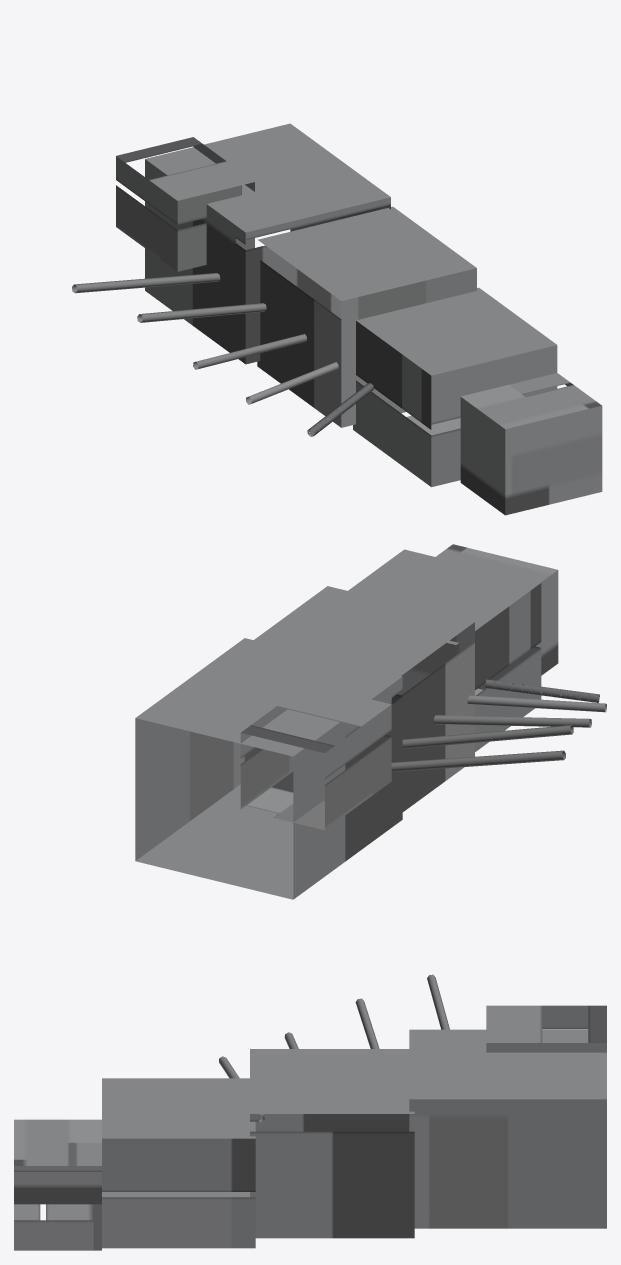
3 views of the same model, one above another, from view 1: azimuth 30°, elevation 25°; view 2: azimuth 150°, elevation 25°; view 3: azimuth 270°, elevation 25° (orthographic). The views are drawn at different scales.
Size of the model in its own units: 0.7798 by 0.3915 by 0.918.
